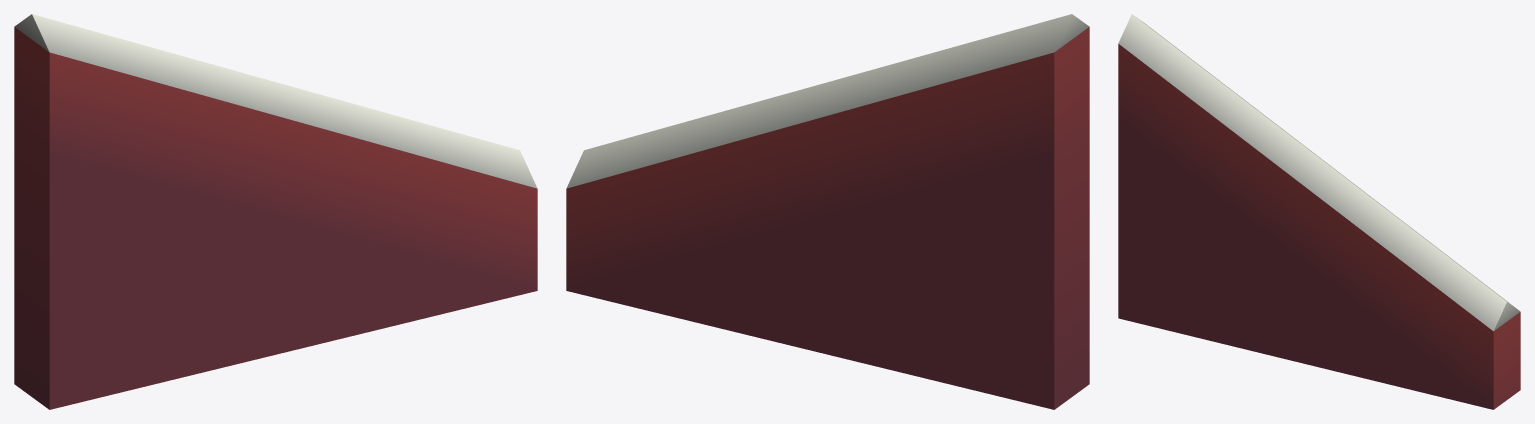
File: Wall_Banister_Brick_02.fbx
3 renders of one model, left to right at view 1: azimuth 30°, elevation 25°; view 2: azimuth 150°, elevation 25°; view 3: azimuth 330°, elevation 25°, orthographic. The views are drawn at different scales.
Parts seen in each view (by area): view 1: Wall_Banister_Brick_02; view 2: Wall_Banister_Brick_02; view 3: Wall_Banister_Brick_02.
Part boxes in pixels (x1,y1,x2,y2): Wall_Banister_Brick_02: (14, 14, 537, 409); Wall_Banister_Brick_02: (566, 14, 1089, 409); Wall_Banister_Brick_02: (1118, 14, 1520, 409).
Size of the model in its own units: 400 by 300 by 50.
